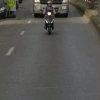Motorcycle: (35, 6, 59, 36)
